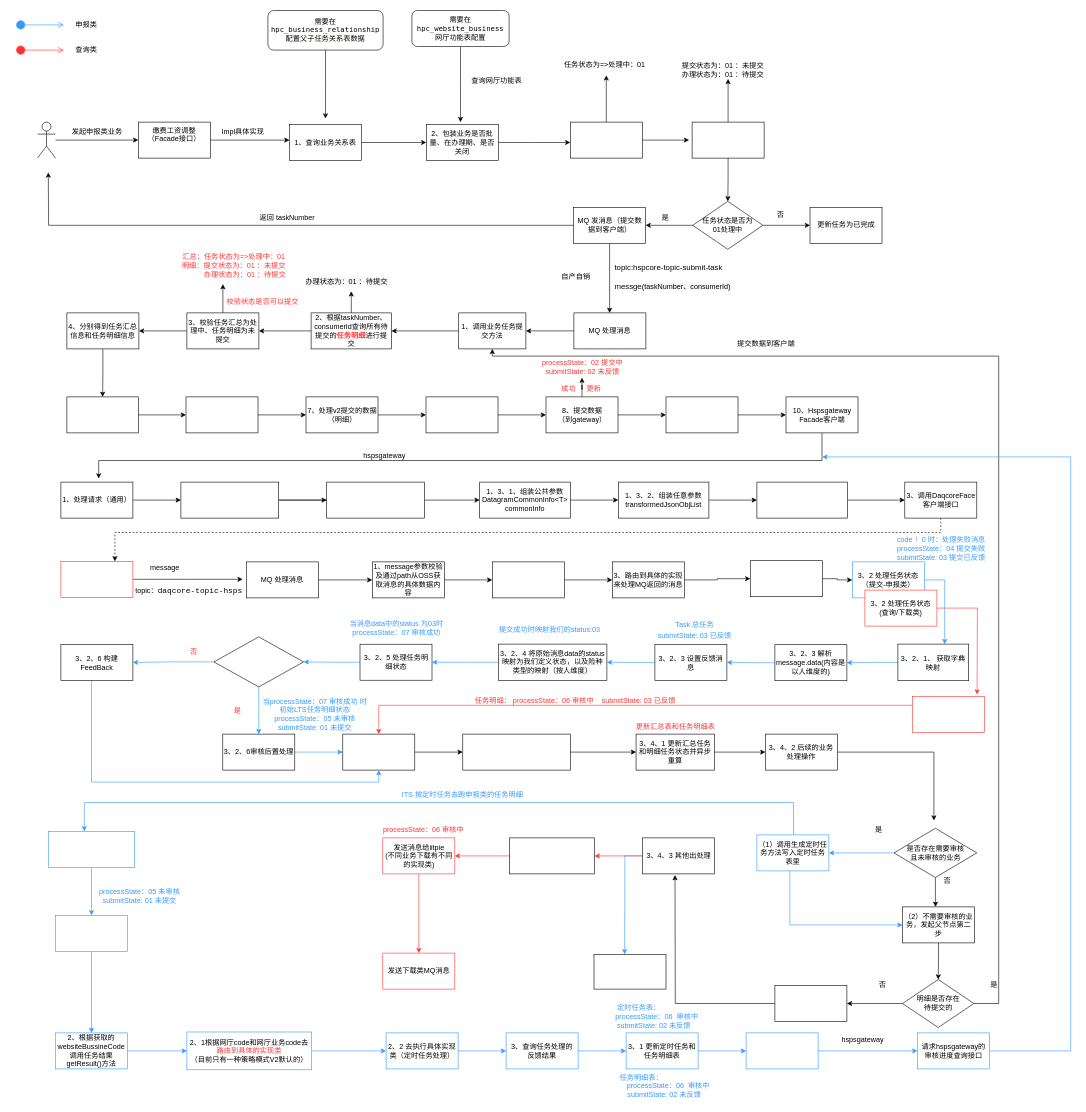
This 1086x1112 diagram has some shape labels left out. Here are the shapes that lost their labels. From the top down, the centre of each, then its label:
At point 46,140: "Actor".
At point 606,140: "3、生成主任务记录".
At point 728,140: "4、插入任务明细记录在明细表中".
At point 102,414: "5、将任务明细按 异步流水 号进行分组".
At point 221,414: "6、将明细循环调用客户端进行提交".
At point 461,414: "7、1根据业务类型区分，具体对应那个Hander".
At point 701,414: "9、具体到对应业务实现类真正提交".
At point 229,500: "1、2、根据websiteCode和ClientBusinessCode获取对应的 报文实现类(网厅个性化)".
At point 375,500: "1、3 实现统一报文接口的方法（会话、登录）".
At point 802,500: "2、调用发送的接口获取调用结果 返回调用结果".
At point 96,579: "当客户端把任务提交到成功到网厅则进行MQ消息".
At point 528,579: "2、任务处理器，通过websiteCode和ActionCode路由策略选择实现类".
At point 786,578: "3、1获取任务明细、获取没有完成的任务明细".
At point 258,661: "任务明细是否需要审核 （发起TLS）".
At point 948,714: "校验FilePath和 获取ObjectKey 设置明细状态".
At point 378,752: "3、3 父节点任务处理、主任务状态处理".
At point 516,752: "3、4 更新任务状态，以及后续处理（定时任务、iitpie发送消息）".
At point 91,849: "LTS表执行审批任务（查询审批进度）".
At point 552,855: "下载/查询类 （归档、发消息给iitpie）".
At point 91,933: "1、根据业务类型及 任务明细状态 （未提交、未审核）查询任务定时task_lts".
At point 629,971: "申报类（空实现）".
At point 810,1003: "return".
At point 782,1050: "3、2 通过gateway调用 业务反馈请求（Client）".
